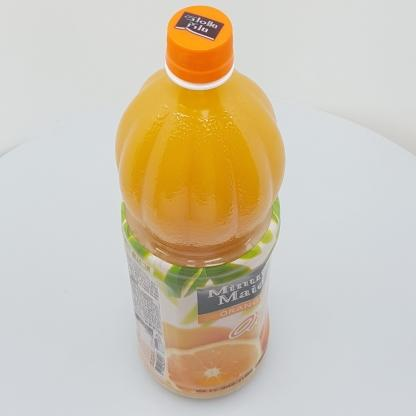-----------1-5L: (115, 5, 286, 399)
